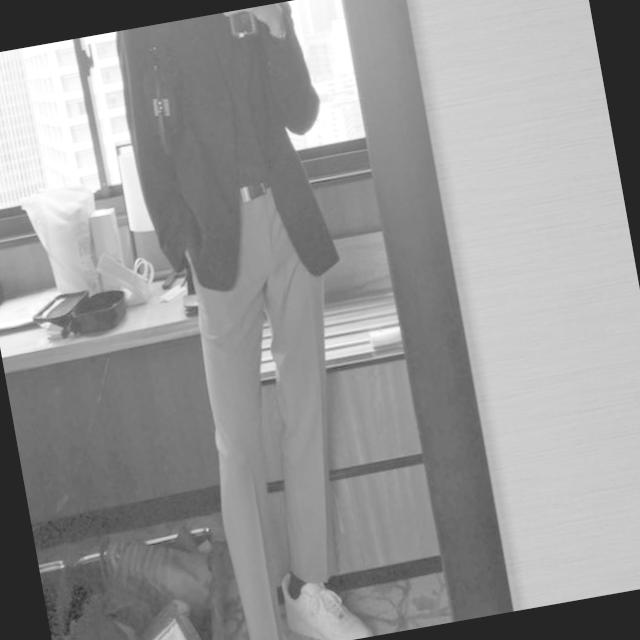blazer: (110, 0, 350, 302)
slacks: (165, 170, 385, 640)
